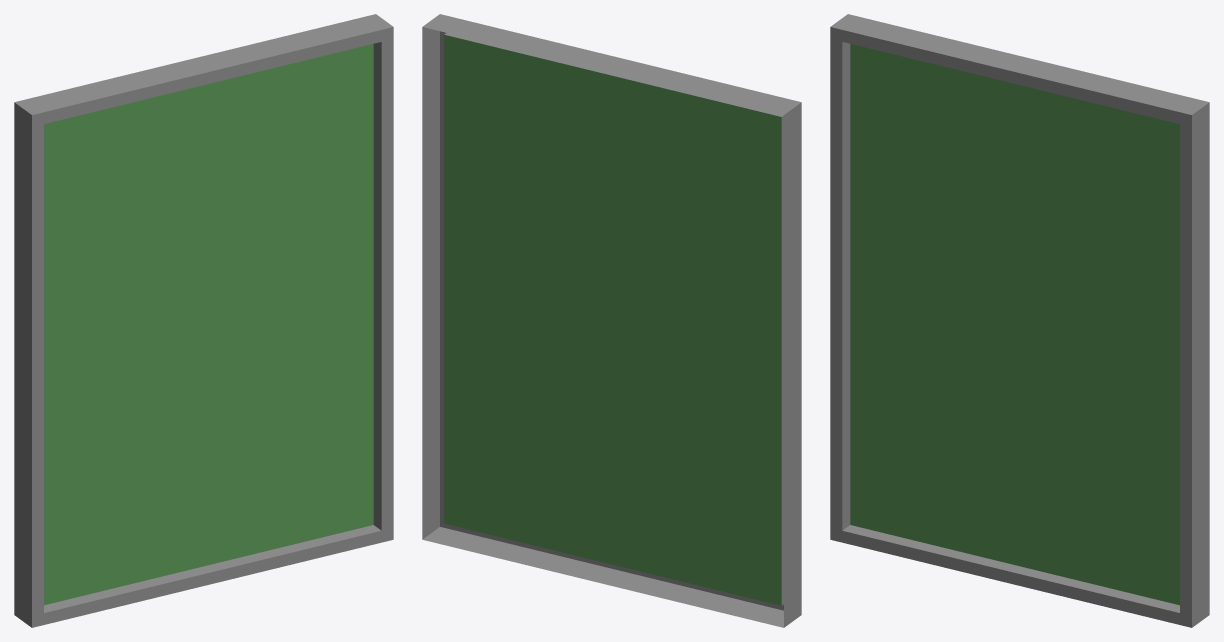
File: Frame_Poster.FBX
The picture shows the model from 3 angles, left to right: view 1: azimuth 30°, elevation 25°; view 2: azimuth 150°, elevation 25°; view 3: azimuth 330°, elevation 25°; orthographic projection.
Parts seen in each view (by area): view 1: Frame_Poster; view 2: Frame_Poster; view 3: Frame_Poster.
Boxes of the visible parts, x1=… form: Frame_Poster: x1=14, y1=14, x2=393, y2=627; Frame_Poster: x1=422, y1=14, x2=801, y2=627; Frame_Poster: x1=830, y1=14, x2=1209, y2=627.
Bounding box in the file's own units: 30.36 × 41.13 × 2.57.
